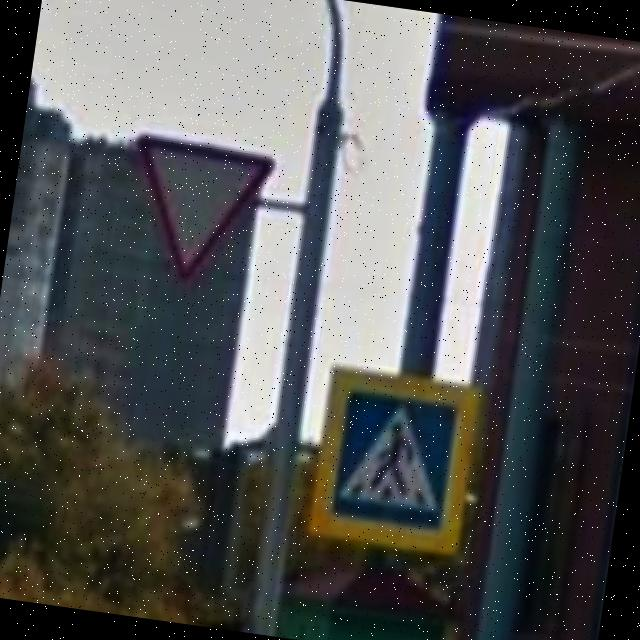Przejscie dla pieszych: (302, 358, 488, 564)
Ustap pierwszenstwa: (112, 128, 283, 300)
